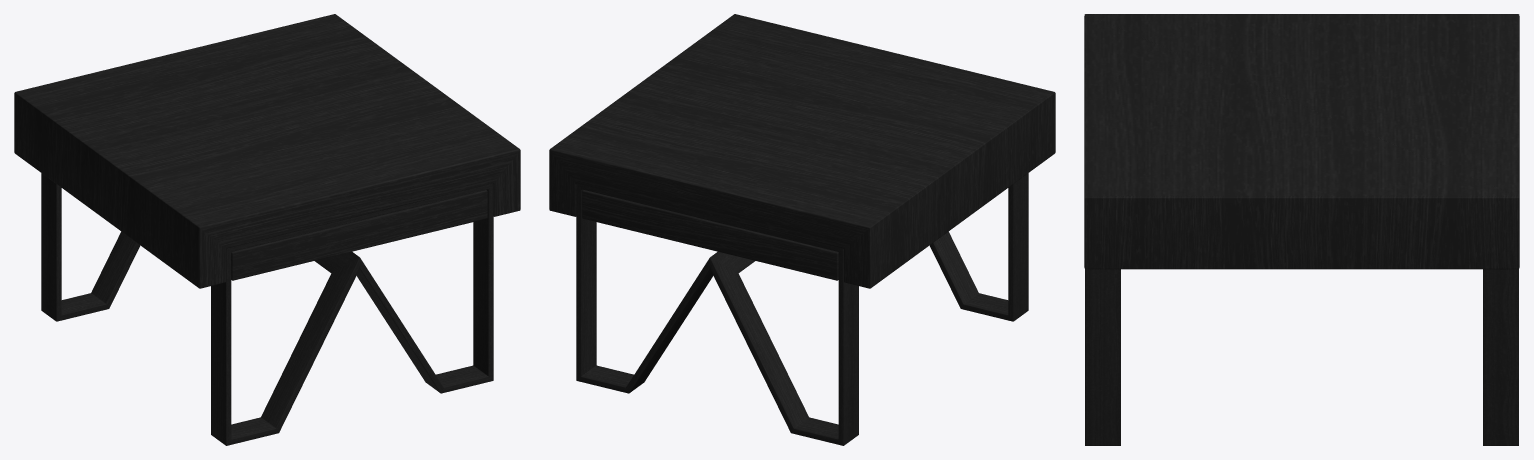
File: table2.obj
The picture shows the model from 3 angles, left to right: view 1: azimuth 30°, elevation 25°; view 2: azimuth 150°, elevation 25°; view 3: azimuth 270°, elevation 25°; orthographic projection. The views are drawn at different scales.
Visible parts, largest first — view 1: mulbo_coffe_table_edge; view 2: mulbo_coffe_table_edge; view 3: mulbo_coffe_table_edge.
Boxes of the visible parts, box(x1,y1,x2,y2) form: mulbo_coffe_table_edge: box(14, 14, 520, 445); mulbo_coffe_table_edge: box(549, 14, 1055, 445); mulbo_coffe_table_edge: box(1084, 14, 1519, 445).
Bounding box in the file's own units: 0.8713 × 0.5838 × 0.8713.
